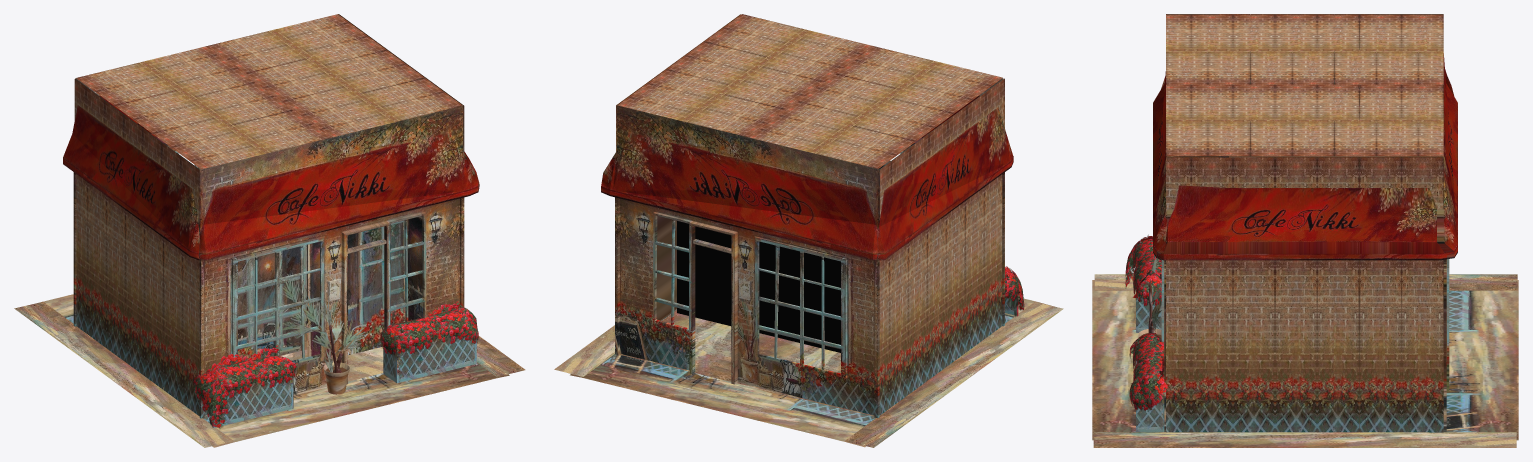
The model's file is cafe_nikki.glb.
3 renders of one model, left to right at view 1: azimuth 30°, elevation 25°; view 2: azimuth 150°, elevation 25°; view 3: azimuth 270°, elevation 25°, orthographic. The views are drawn at different scales.
Parts seen in each view (by area): view 1: pPlane4, polySurface137, polySurface3, pPlane5, pPlane7, polySurface72, polySurface32, polySurface34, polySurface70, pPlane6, pPlane17, polySurface104 (+2 smaller); view 2: pPlane6, polySurface137, polySurface3, pPlane53, pPlane7, polySurface32, polySurface104, pPlane4, polySurface72; view 3: polySurface137, pPlane8, pPlane6, pPlane4, polySurface32, polySurface23, polySurface29, polySurface27, polySurface21, polySurface19, polySurface25, polySurface18 (+22 smaller).
Boxes of the visible parts, x1,y1,x2,y2 form: pPlane4: (176,88,509,447); polySurface137: (76,14,462,169); polySurface3: (74,79,199,415); pPlane5: (238,220,405,361); pPlane7: (63,105,199,260); polySurface72: (193,299,478,428); polySurface32: (14,301,525,447); polySurface34: (383,329,476,383); polySurface70: (213,374,293,427); pPlane6: (42,14,436,389); pPlane17: (407,216,422,320); polySurface104: (163,323,383,416); pPlane6: (570,37,980,447); polySurface137: (617,14,1002,168); polySurface3: (879,78,1004,415); pPlane53: (677,221,840,352); pPlane7: (876,107,1013,260); polySurface32: (554,302,1063,447); polySurface104: (619,310,965,416); pPlane4: (717,14,1054,326); polySurface72: (1001,266,1024,322); polySurface137: (1166,14,1443,156); pPlane8: (1156,183,1454,260); pPlane6: (1229,14,1518,440); pPlane4: (1092,14,1218,440); polySurface32: (1093,274,1517,447); polySurface23: (1333,260,1359,432); polySurface29: (1359,260,1384,432); polySurface27: (1418,260,1443,432); polySurface21: (1191,260,1216,432); polySurface19: (1249,260,1274,432); polySurface25: (1275,260,1300,432); polySurface18: (1166,260,1191,432).
Size of what is drawn, in the model's own units: 563 by 421 by 584.
Materials: 4 (2 with a texture image).
